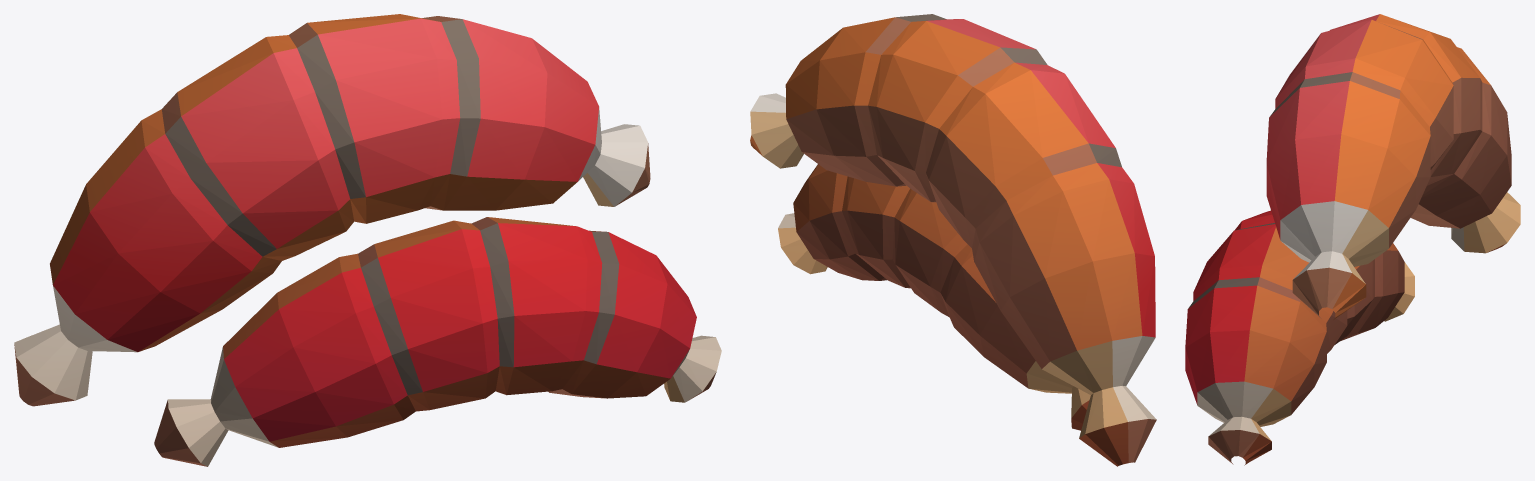
Rendered from food_meat_sausage.glb.
3 renders of one model, left to right at view 1: azimuth 30°, elevation 25°; view 2: azimuth 150°, elevation 25°; view 3: azimuth 270°, elevation 25°, orthographic. The views are drawn at different scales.
Parts seen in each view (by area): view 1: model; view 2: model; view 3: model.
Part boxes in pixels (left/top/right/bottom): model: left=14, top=14, right=721, bottom=466; model: left=750, top=14, right=1156, bottom=466; model: left=1185, top=14, right=1520, bottom=465.
Bounding box in the file's own units: 0.548 × 0.3812 × 0.336.
Materials: 1 (1 with a texture image).
